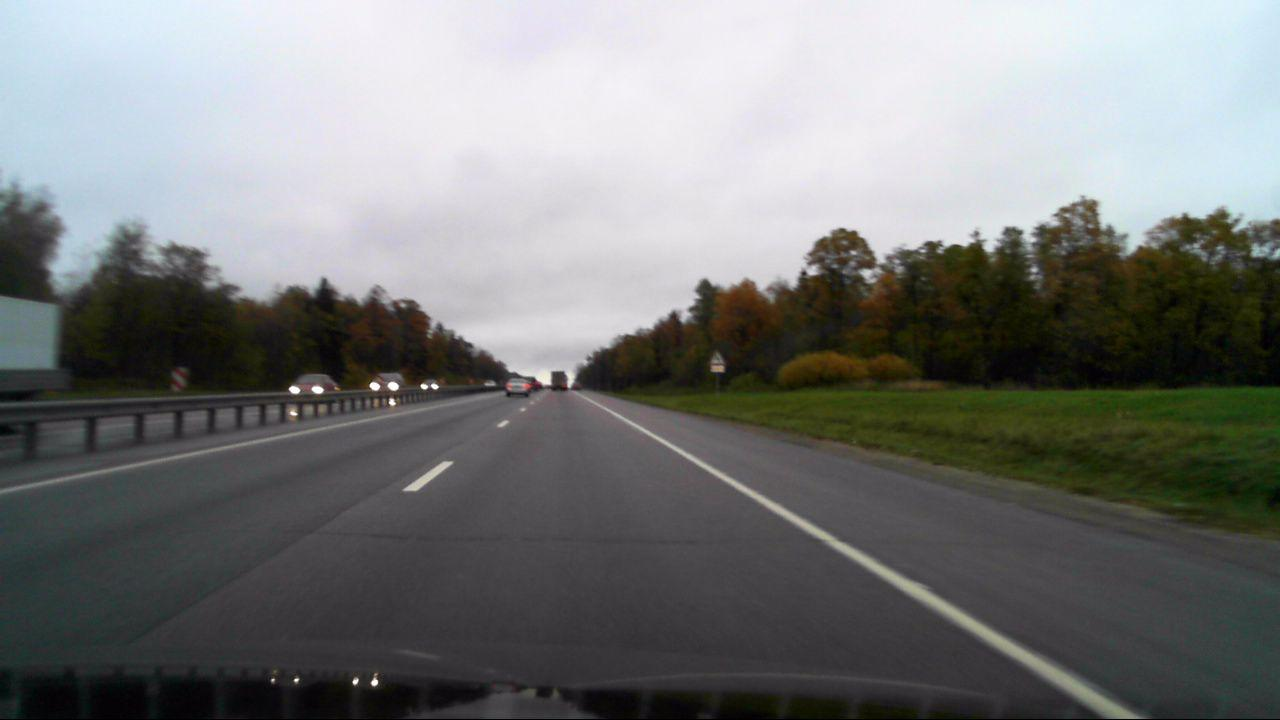1_27: (709, 348, 726, 365)
8_2_1: (712, 364, 724, 372)
